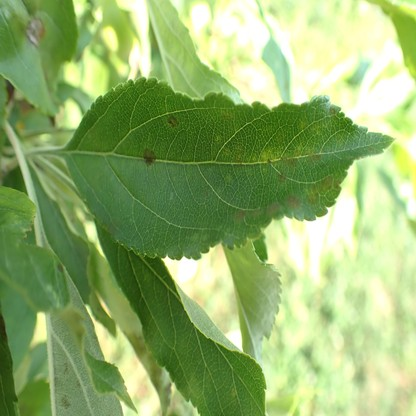frogeye_leaf_spot: (25, 18, 45, 45), (58, 264, 63, 273)
scab: (320, 175, 340, 193), (305, 183, 319, 204), (285, 195, 300, 213), (266, 202, 282, 218), (308, 149, 323, 164), (282, 155, 298, 168), (230, 210, 245, 223), (143, 149, 156, 163), (260, 152, 273, 166), (249, 204, 261, 217), (61, 396, 71, 410), (168, 115, 180, 125), (108, 223, 116, 237), (278, 171, 286, 183), (225, 173, 233, 184), (190, 233, 199, 242), (330, 105, 337, 115), (201, 234, 207, 244)
